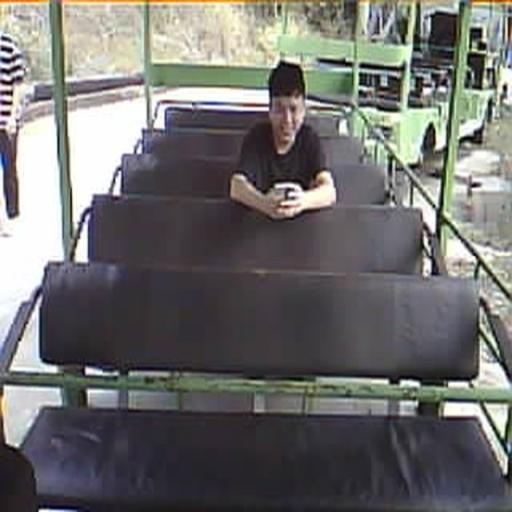persona: (228, 60, 338, 222)
